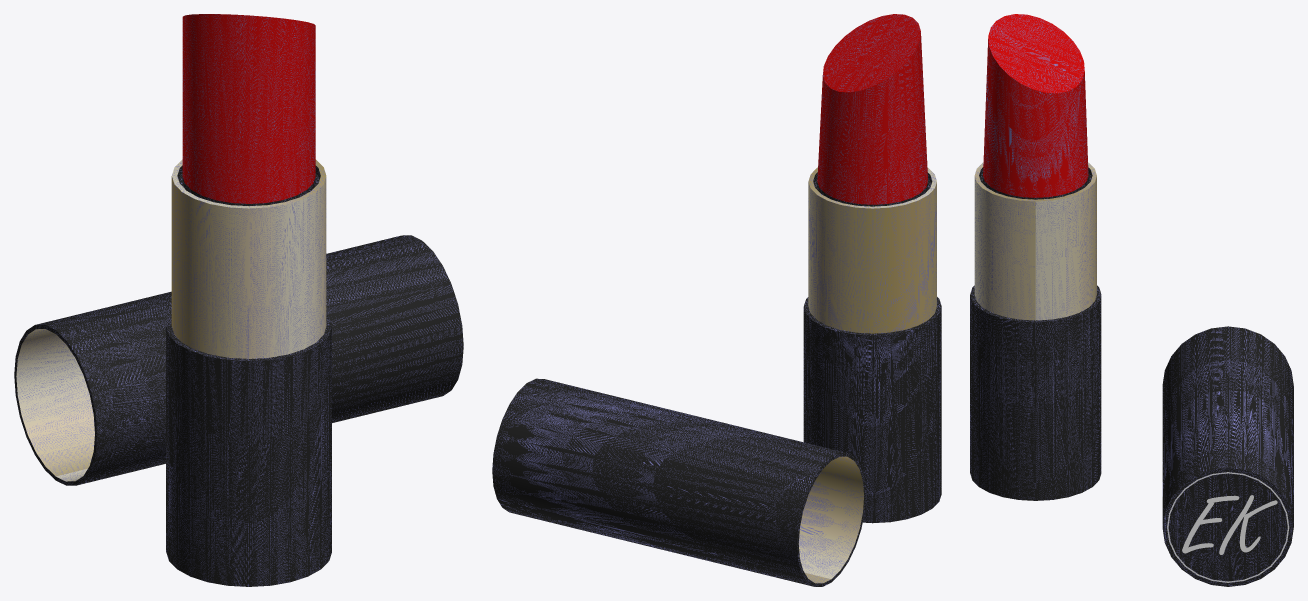
The picture shows the model from 3 angles, left to right: view 1: azimuth 30°, elevation 25°; view 2: azimuth 150°, elevation 25°; view 3: azimuth 270°, elevation 25°; orthographic projection. The views are drawn at different scales.
Parts seen in each view (by area): view 1: stift (×3), deckel (×2); view 2: stift (×3), deckel (×2); view 3: stift (×3), deckel (×3), EK (×2).
Boxes of the visible parts, x1,y1,x2,y2 form: stift (×3): [166, 14, 331, 586]; deckel (×2): [14, 235, 463, 485]; stift (×3): [803, 14, 941, 523]; deckel (×2): [492, 378, 865, 586]; stift (×3): [970, 14, 1101, 500]; deckel (×3): [1162, 326, 1293, 586]; EK (×2): [1182, 495, 1277, 554].
Size of the model in its own units: 2.01 by 1.94 by 2.93.
Materials: 5 (1 with a texture image).
